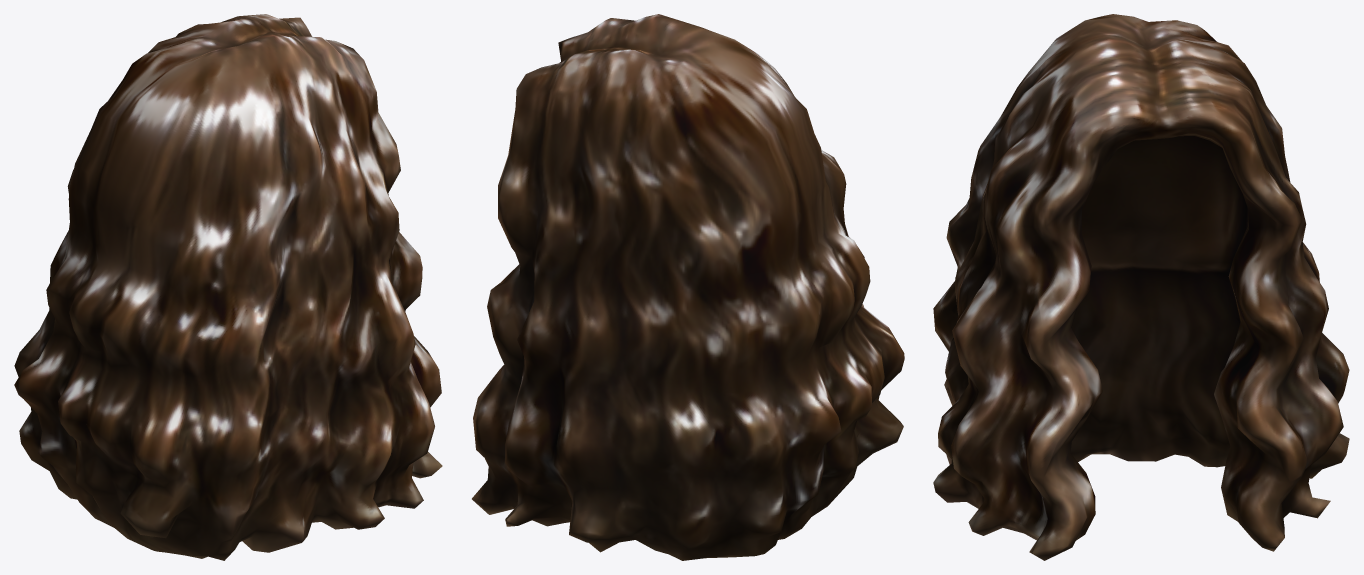
The model's file is hairCheck.glb.
3 renders of one model, left to right at view 1: azimuth 30°, elevation 25°; view 2: azimuth 150°, elevation 25°; view 3: azimuth 270°, elevation 25°, orthographic. The views are drawn at different scales.
Visible parts, largest first — view 1: lagrange_node; view 2: lagrange_node; view 3: lagrange_node.
Part boxes in pixels (bbox=[...]): lagrange_node: bbox=[14, 14, 442, 560]; lagrange_node: bbox=[472, 14, 904, 560]; lagrange_node: bbox=[933, 14, 1349, 560].
Size of the model in its own units: 0.7736 by 0.9855 by 0.7685.
1 material, 1 textured.
